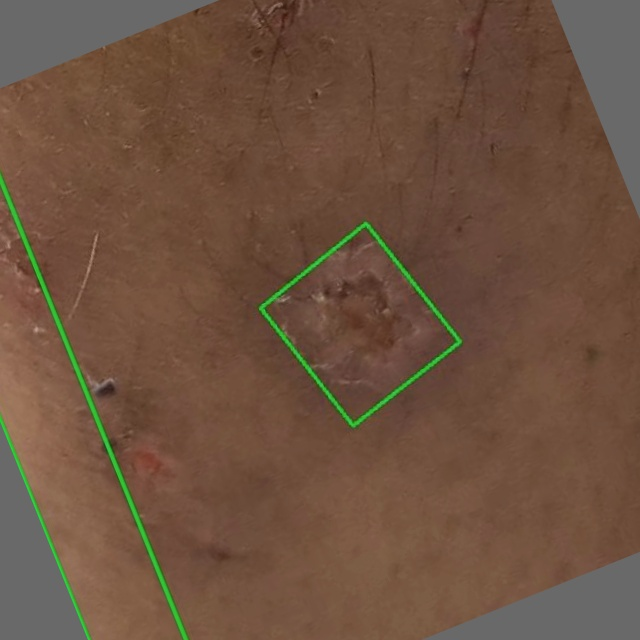Eczema: (260, 223, 460, 426)
